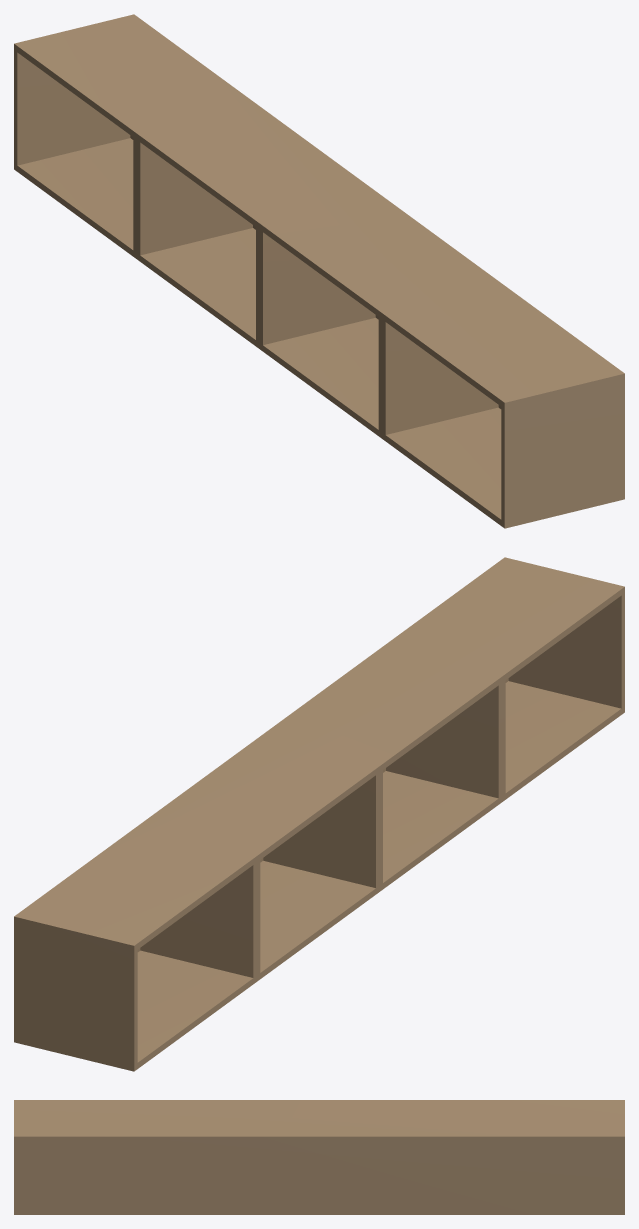
The model's file is TV_Skrinka.glb.
The picture shows the model from 3 angles, top to bottom: view 1: azimuth 30°, elevation 25°; view 2: azimuth 150°, elevation 25°; view 3: azimuth 270°, elevation 25°; orthographic projection. The views are drawn at different scales.
Parts seen in each view (by area): view 1: TV Skrinka; view 2: TV Skrinka; view 3: TV Skrinka.
Part boxes in pixels (left/top/right/bottom): TV Skrinka: left=14, top=14, right=624, bottom=528; TV Skrinka: left=14, top=557, right=624, bottom=1071; TV Skrinka: left=14, top=1100, right=624, bottom=1214.
Bounding box in the file's own units: 1.1 × 1.1 × 7.8.
Materials: 1 (1 with a texture image).
